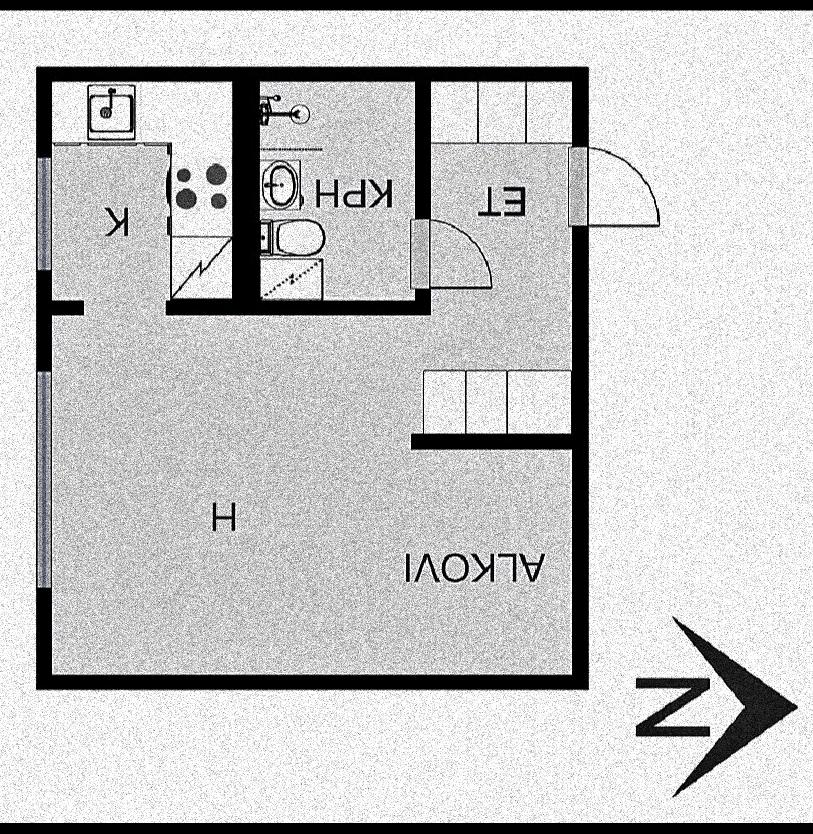door: (566, 142, 667, 228), (411, 214, 503, 290)
window: (34, 371, 55, 594), (34, 156, 52, 271)
zone: (47, 79, 572, 672), (45, 83, 232, 304), (258, 79, 414, 302)
